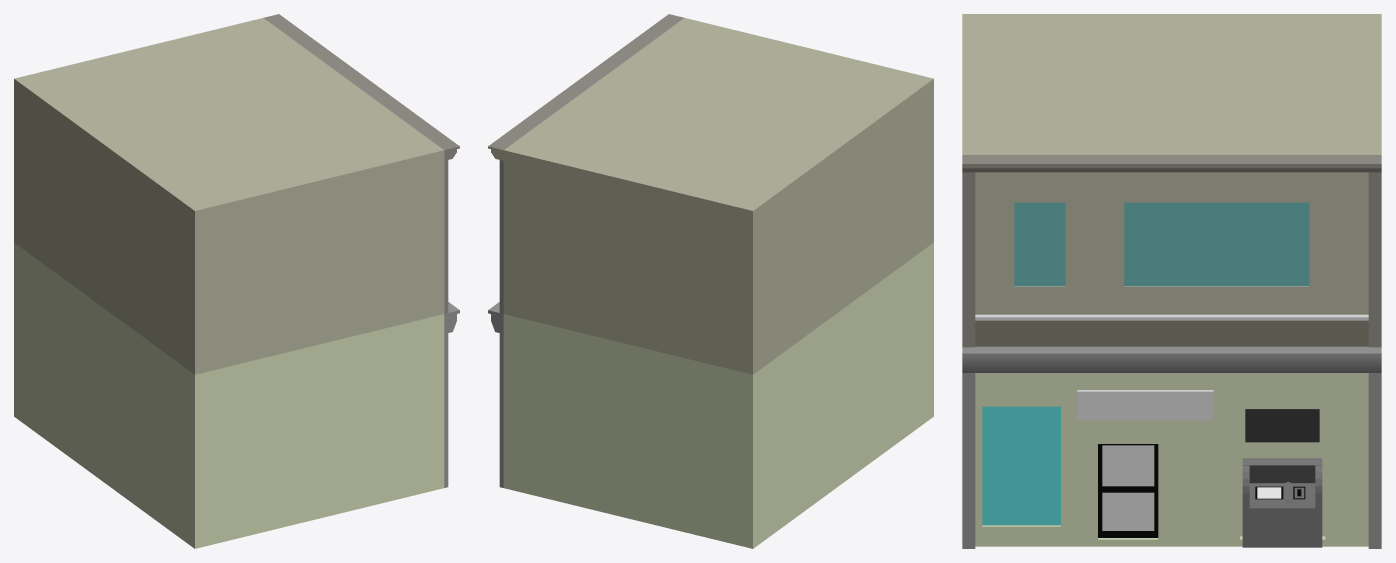
Rendered from STOREwithATM1.fbx.
The picture shows the model from 3 angles, left to right: view 1: azimuth 30°, elevation 25°; view 2: azimuth 150°, elevation 25°; view 3: azimuth 270°, elevation 25°; orthographic projection. The views are drawn at different scales.
Visible parts, largest first — view 1: Cube.003, Cube, Cube.004; view 2: Cube.003, Cube, Cube.004; view 3: Cube.003, Cube, Cube.004, ATM, Cube.001, Cube.002.
Part boxes in pixels (x1,y1,x2,y2): Cube.003: (14, 14, 459, 374); Cube: (14, 242, 444, 548); Cube.004: (444, 302, 459, 487); Cube.003: (488, 14, 933, 374); Cube: (503, 242, 933, 548); Cube.004: (488, 302, 503, 487); Cube.003: (962, 14, 1381, 347); Cube: (975, 373, 1368, 546); Cube.004: (962, 346, 1381, 548); ATM: (1242, 458, 1322, 547); Cube.001: (1098, 444, 1158, 537); Cube.002: (1077, 390, 1213, 420).
Bounding box in the file's own units: 2232 × 2720 × 2638.
